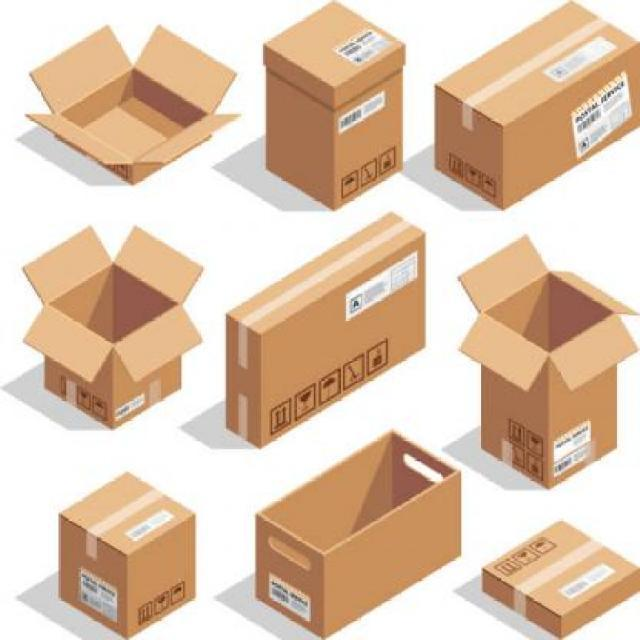box: (223, 212, 430, 450), (458, 231, 636, 486), (254, 427, 461, 640), (434, 0, 640, 210), (25, 220, 199, 428), (26, 27, 237, 182), (262, 0, 398, 206), (55, 467, 193, 640), (482, 515, 640, 640)
